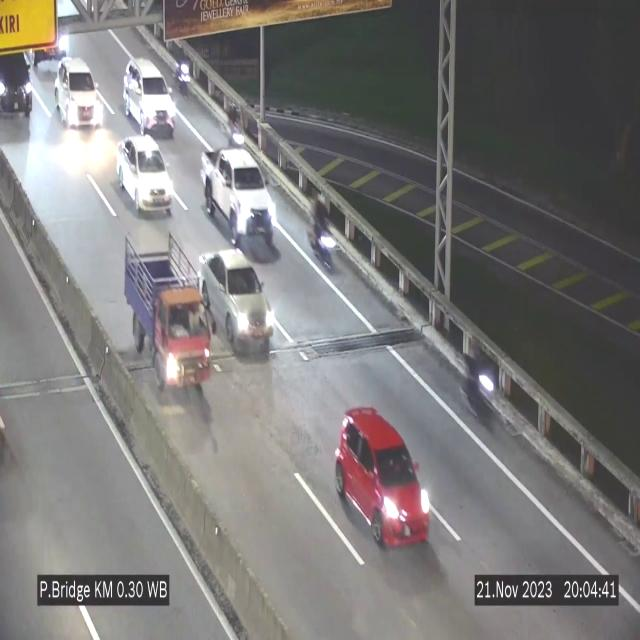Car: (335, 406, 431, 548), (198, 250, 274, 354), (200, 150, 276, 252), (118, 134, 172, 214), (123, 58, 176, 134), (54, 55, 104, 134), (0, 44, 34, 124)
Motorcycle: (463, 334, 498, 428), (306, 186, 338, 274), (174, 40, 193, 104)
Truck: (124, 230, 210, 398)
